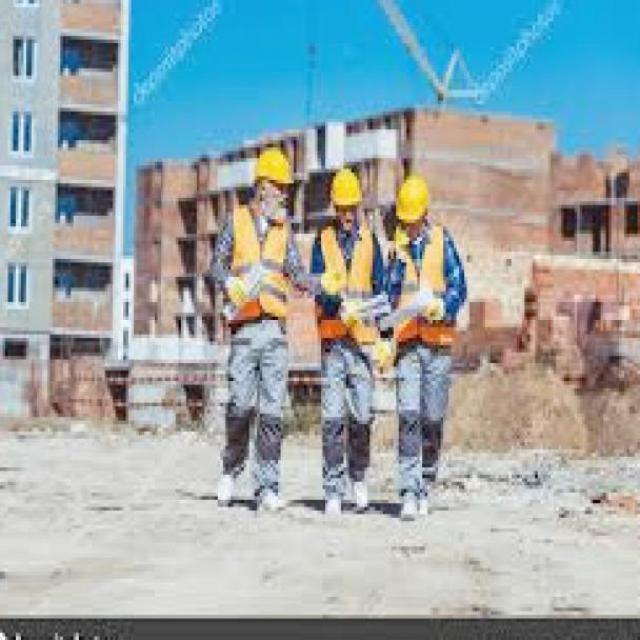helmet: (383, 165, 435, 259), (249, 140, 291, 226), (322, 151, 362, 237)
vest: (218, 205, 294, 328), (312, 222, 381, 338), (391, 241, 448, 345)
